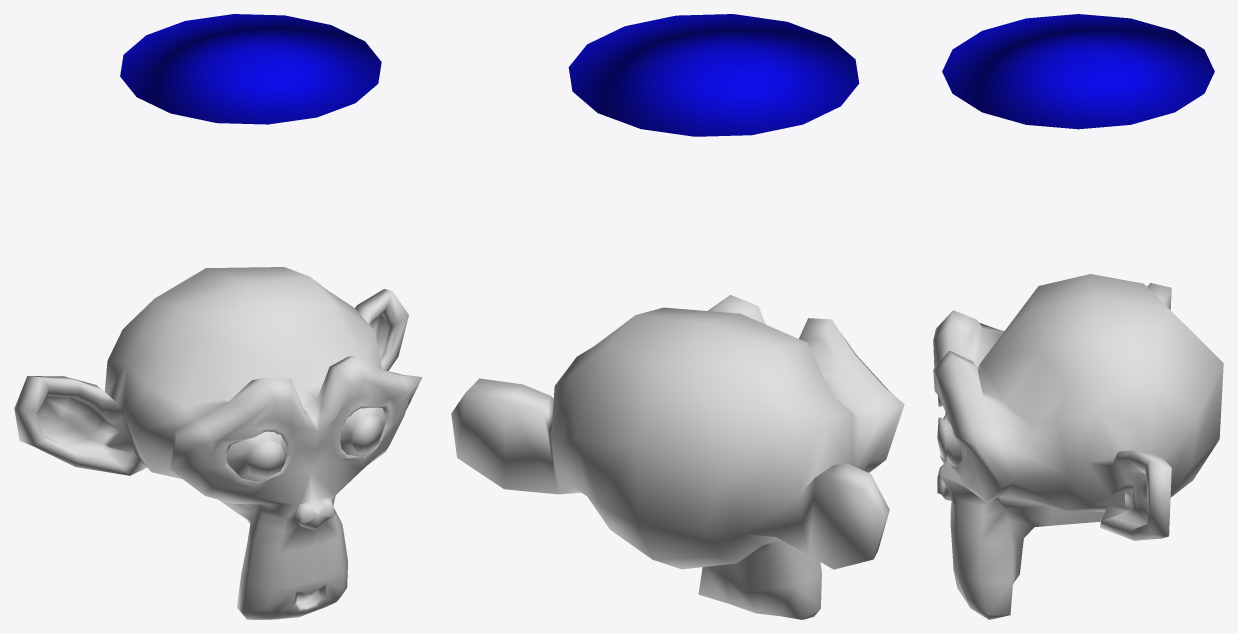
Rendered from my_generated_avatar.glb.
The picture shows the model from 3 angles, left to right: view 1: azimuth 30°, elevation 25°; view 2: azimuth 150°, elevation 25°; view 3: azimuth 270°, elevation 25°; orthographic projection. The views are drawn at different scales.
Visible parts, largest first — view 1: Base_Avatar, Accessory_Hat; view 2: Base_Avatar, Accessory_Hat; view 3: Base_Avatar, Accessory_Hat.
Boxes of the visible parts, <box> form: Base_Avatar: <box>14,267,422,619</box>; Accessory_Hat: <box>120,14,381,124</box>; Base_Avatar: <box>451,295,904,619</box>; Accessory_Hat: <box>568,14,859,136</box>; Base_Avatar: <box>933,274,1223,619</box>; Accessory_Hat: <box>942,14,1214,129</box>.
Size of the model in its own units: 2.73 by 3.53 by 1.7.
